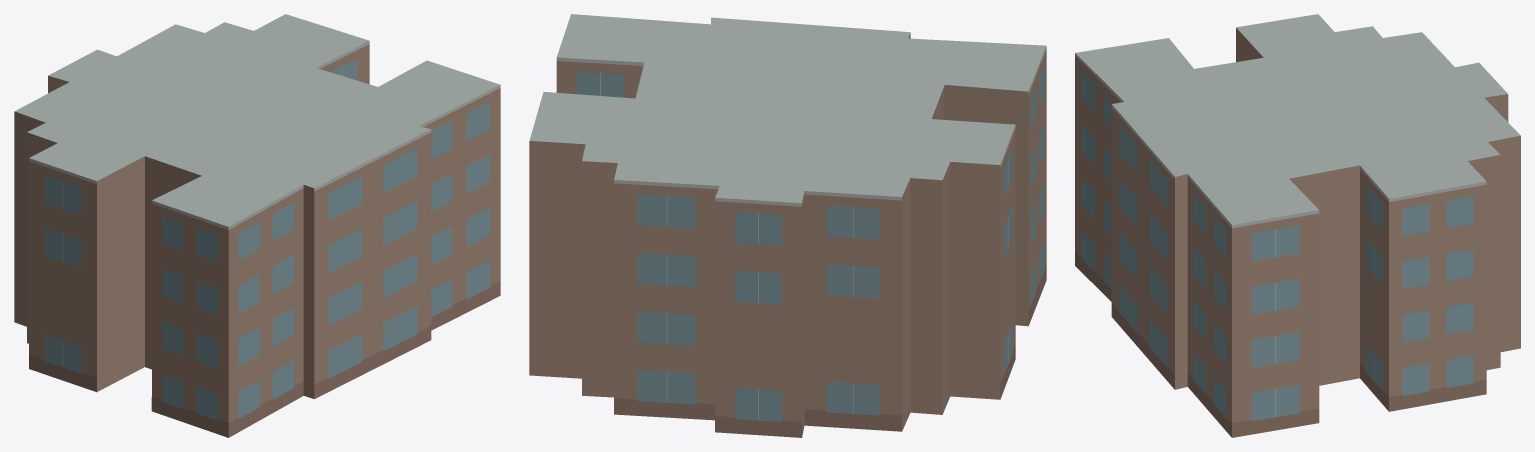
The model's file is survey-upis-32989565.glb.
3 views of the same model, side by side, from view 1: azimuth 30°, elevation 25°; view 2: azimuth 150°, elevation 25°; view 3: azimuth 270°, elevation 25° (orthographic). The views are drawn at different scales.
Parts seen in each view (by area): view 1: survey-upis-32989565.tmp; view 2: survey-upis-32989565.tmp; view 3: survey-upis-32989565.tmp.
Part boxes in pixels (left/top/right/bottom): survey-upis-32989565.tmp: left=14, top=14, right=500, bottom=437; survey-upis-32989565.tmp: left=529, top=14, right=1046, bottom=437; survey-upis-32989565.tmp: left=1075, top=14, right=1520, bottom=437.
Size of the model in its own units: 34.35 by 16.15 by 30.66.
